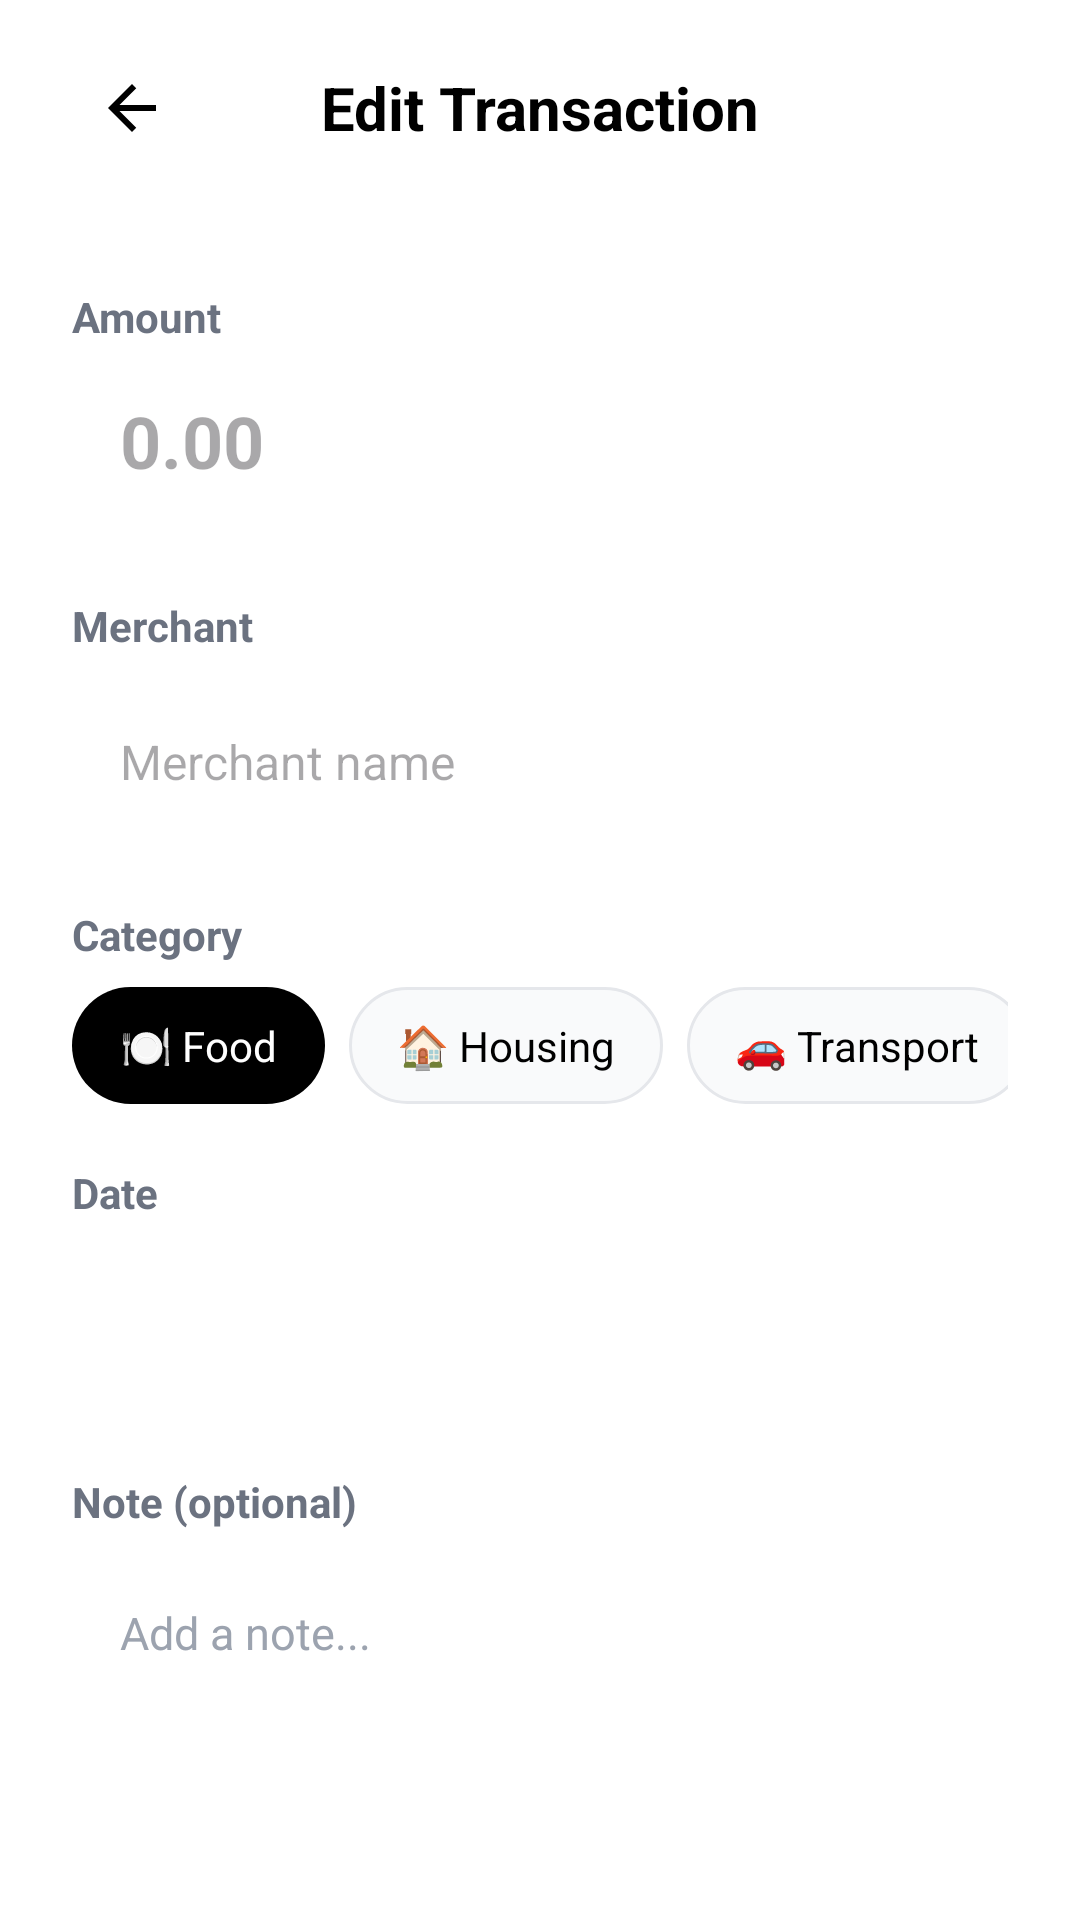

Point at icon controls on the screen. Image size 1080x1920, points as (x,y).
Back: (132,108)
